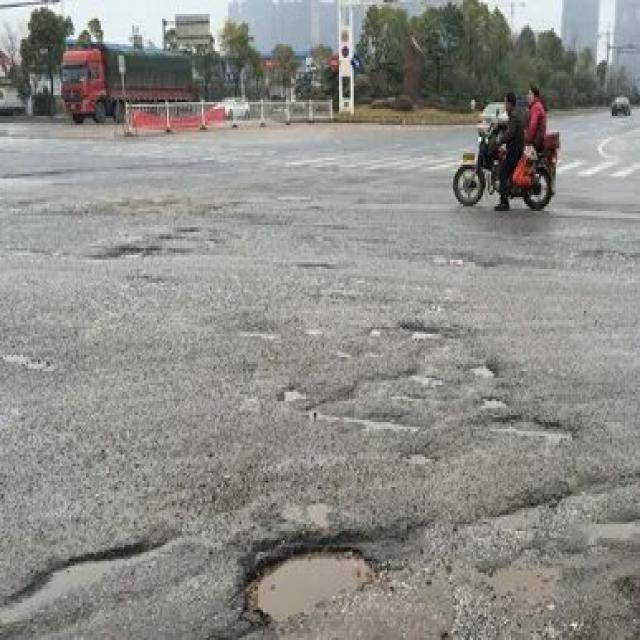Pothole: (276, 360, 577, 452), (0, 515, 202, 628), (226, 536, 384, 622), (98, 227, 198, 276), (400, 310, 455, 346)
